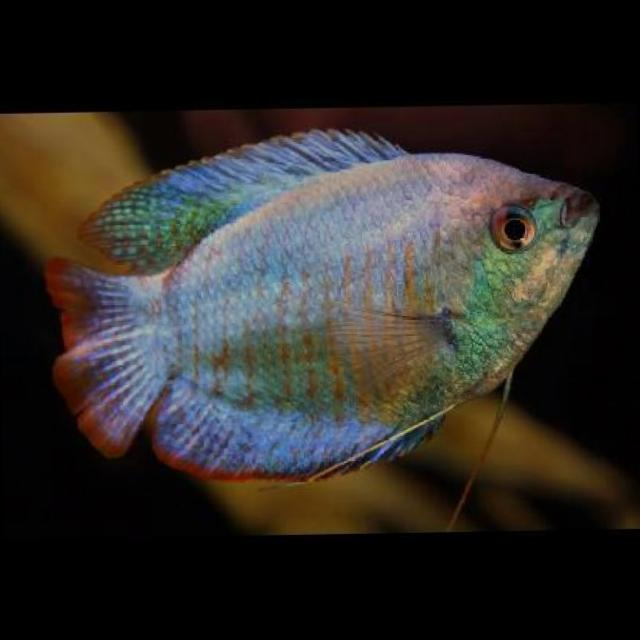Gourami: (33, 118, 606, 491)
